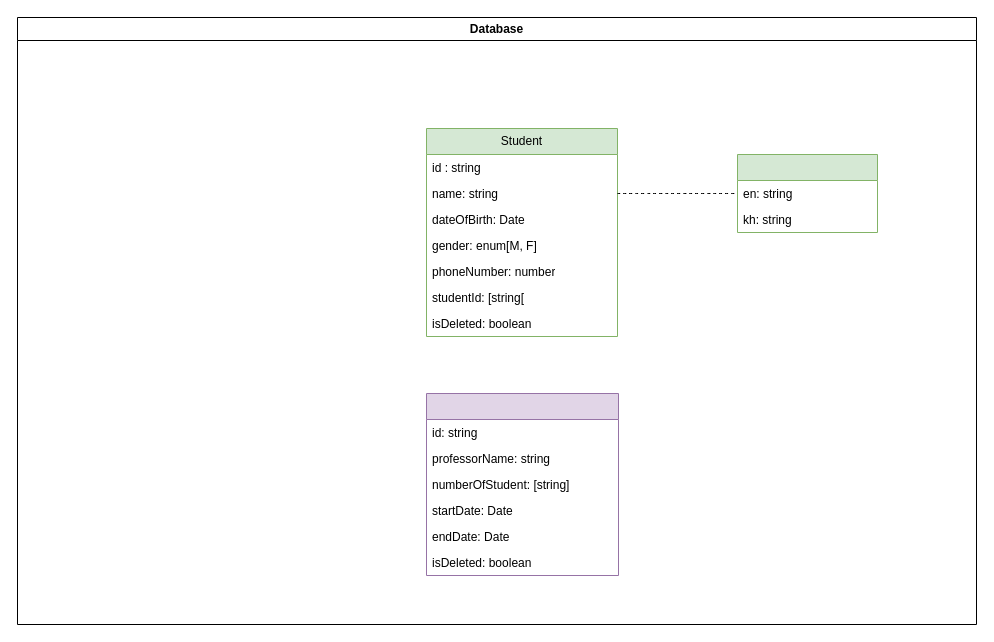
This 994x642 diagram has some shape labels left out. The box of each missing label's shape, as (x1, y1, x2, y2) in pixels:
Course: (426, 392, 618, 576)
Name: (736, 154, 878, 232)
